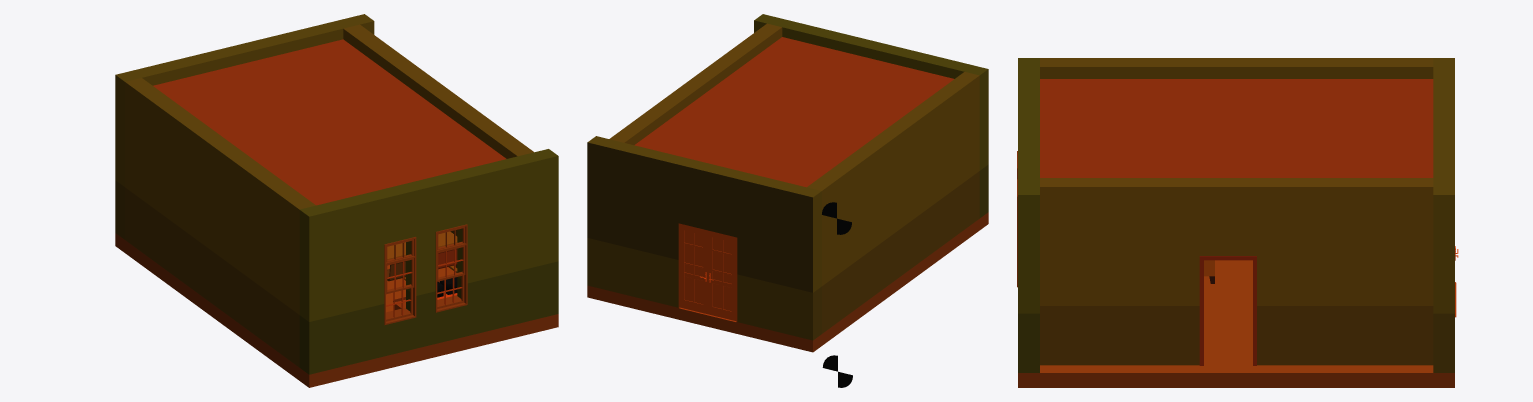
3 views of the same model, side by side, from view 1: azimuth 30°, elevation 25°; view 2: azimuth 150°, elevation 25°; view 3: azimuth 270°, elevation 25° (orthographic). The views are drawn at different scales.
Bounding box in the file's own units: 7.67 × 4.4 × 9.19.
